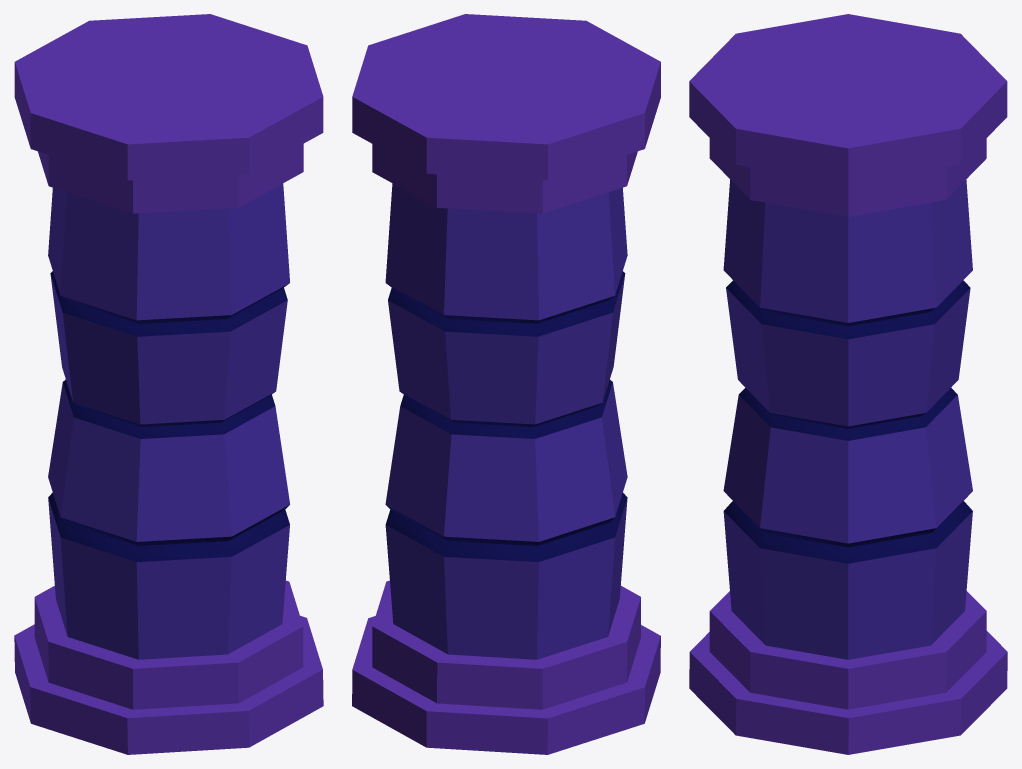
The model's file is colomnus.fbx.
3 views of the same model, side by side, from view 1: azimuth 30°, elevation 25°; view 2: azimuth 150°, elevation 25°; view 3: azimuth 270°, elevation 25° (orthographic).
Parts seen in each view (by area): view 1: Cylinder.011; view 2: Cylinder.011; view 3: Cylinder.011.
Boxes of the visible parts, <box> form: Cylinder.011: <box>14,14,323,754</box>; Cylinder.011: <box>352,14,660,754</box>; Cylinder.011: <box>689,14,1007,754</box>.
Size of the model in its own units: 498 by 1049 by 498.
